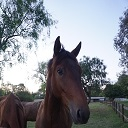caballo: (34, 35, 91, 127), (1, 80, 25, 127)
